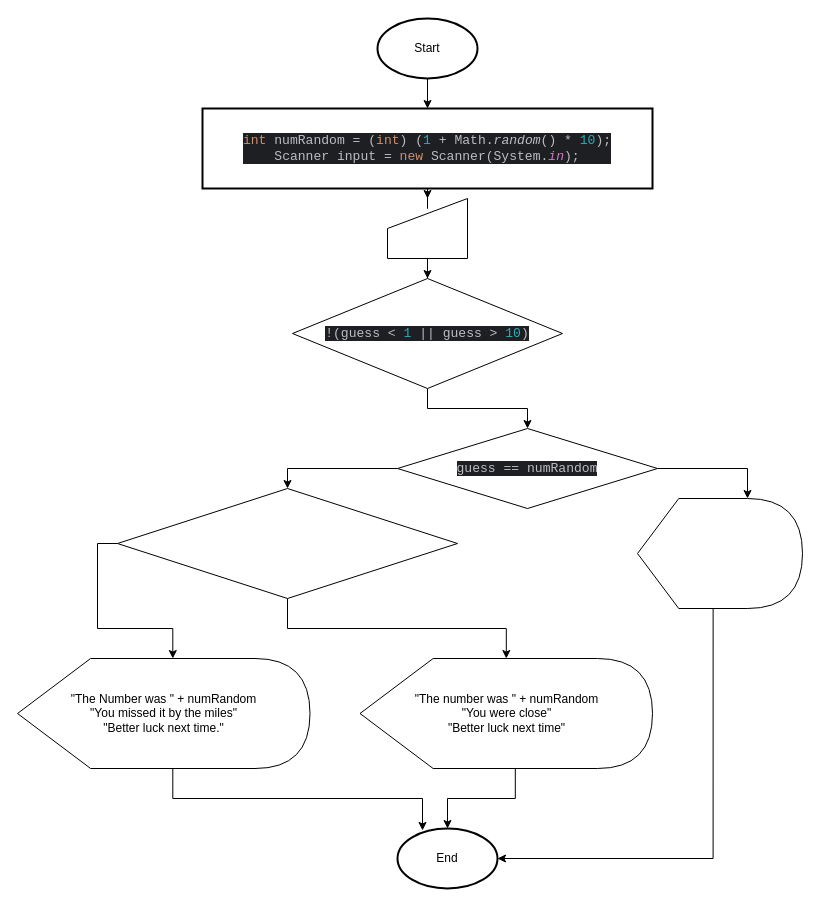
The diagram is 820 pixels wide and 906 high, and some of its shapes have lost their labels. Each missing label, with the centre of its shape:
"Hurray! You win": point 719,553
guess: point 427,228
Math. abs (guess - numRandom) <= 3: point 287,543
